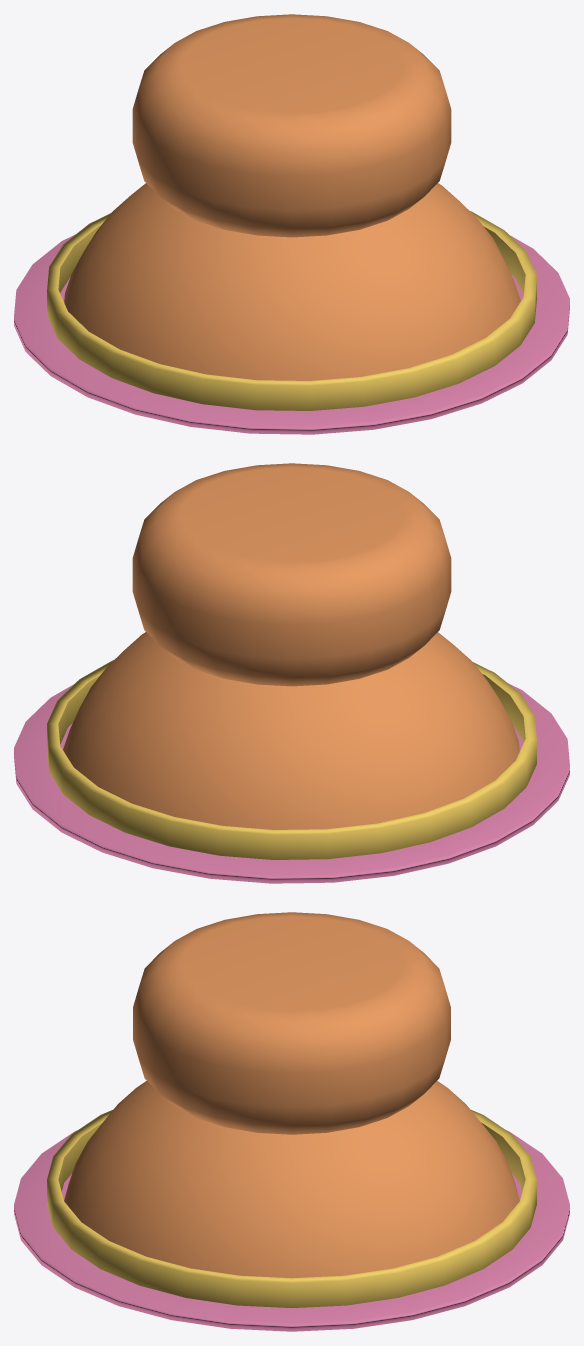
File: balloon_hat.glb
3 views of the same model, one above another, from view 1: azimuth 30°, elevation 25°; view 2: azimuth 150°, elevation 25°; view 3: azimuth 270°, elevation 25° (orthographic).
Parts seen in each view (by area): view 1: balloon_hat_Head; view 2: balloon_hat_Head; view 3: balloon_hat_Head.
Boxes of the visible parts, box(x1,y1,x2,y2) form: balloon_hat_Head: box(14, 14, 569, 434); balloon_hat_Head: box(14, 463, 569, 883); balloon_hat_Head: box(14, 912, 569, 1331).
Bounding box in the file's own units: 0.84 × 0.418 × 0.84.
